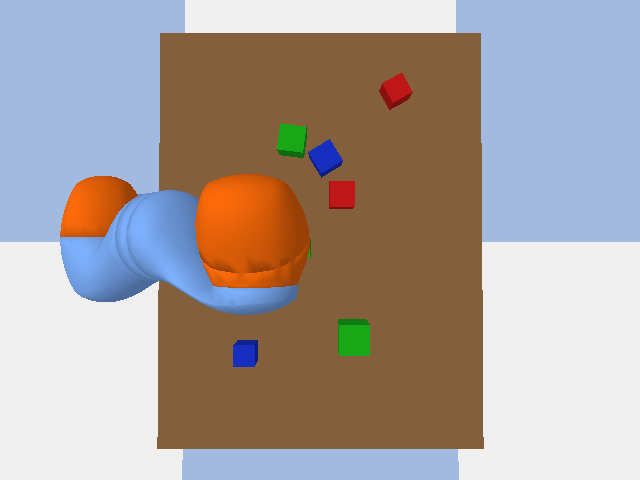blue_obj: (308, 139, 342, 177), (233, 340, 257, 366)
green_obj: (338, 319, 369, 355), (277, 123, 306, 157)
red_obj: (379, 73, 412, 109), (329, 181, 354, 208)
